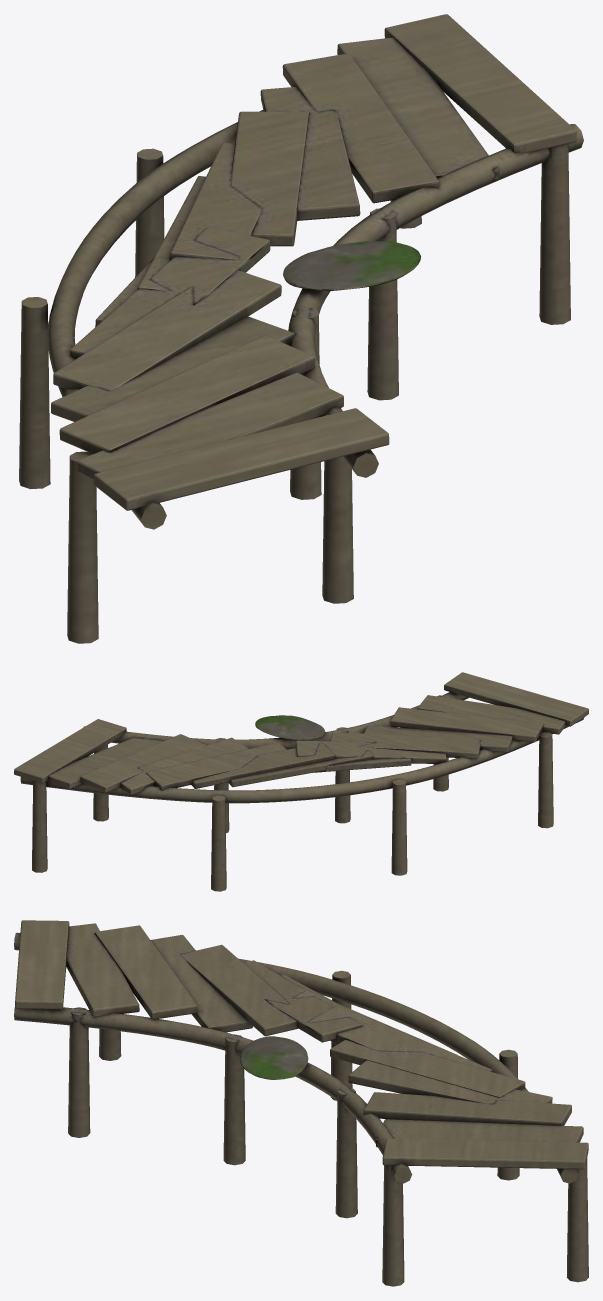
Rendered from brejo_trilha_tabuas_curva.glb.
3 views of the same model, one above another, from view 1: azimuth 30°, elevation 25°; view 2: azimuth 150°, elevation 25°; view 3: azimuth 270°, elevation 25° (orthographic). The views are drawn at different scales.
Parts seen in each view (by area): view 1: brejo_trilha_tabuas_curva_tronco; view 2: brejo_trilha_tabuas_curva_tronco; view 3: brejo_trilha_tabuas_curva_tronco.
Boxes of the visible parts, x1,y1,x2,y2 form: brejo_trilha_tabuas_curva_tronco: [19, 14, 583, 643]; brejo_trilha_tabuas_curva_tronco: [14, 672, 588, 891]; brejo_trilha_tabuas_curva_tronco: [14, 920, 588, 1286].
Bounding box in the file's own units: 3.12 × 0.8108 × 3.11.
1 material, 1 textured.
